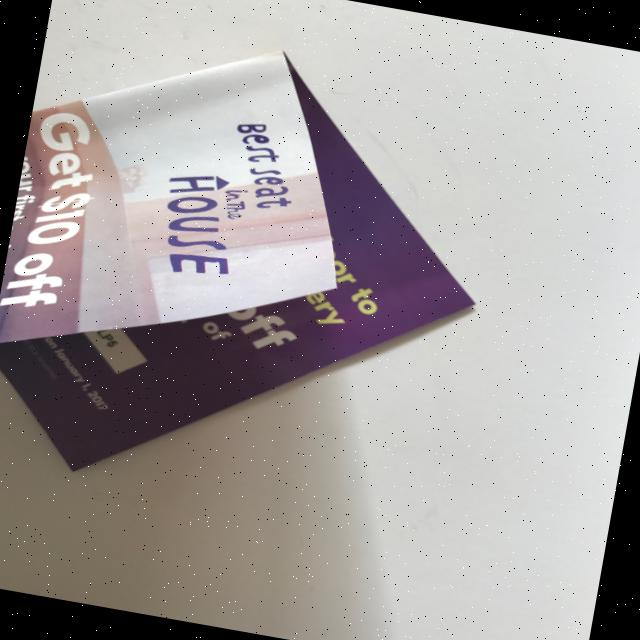paper: (0, 8, 509, 536)
